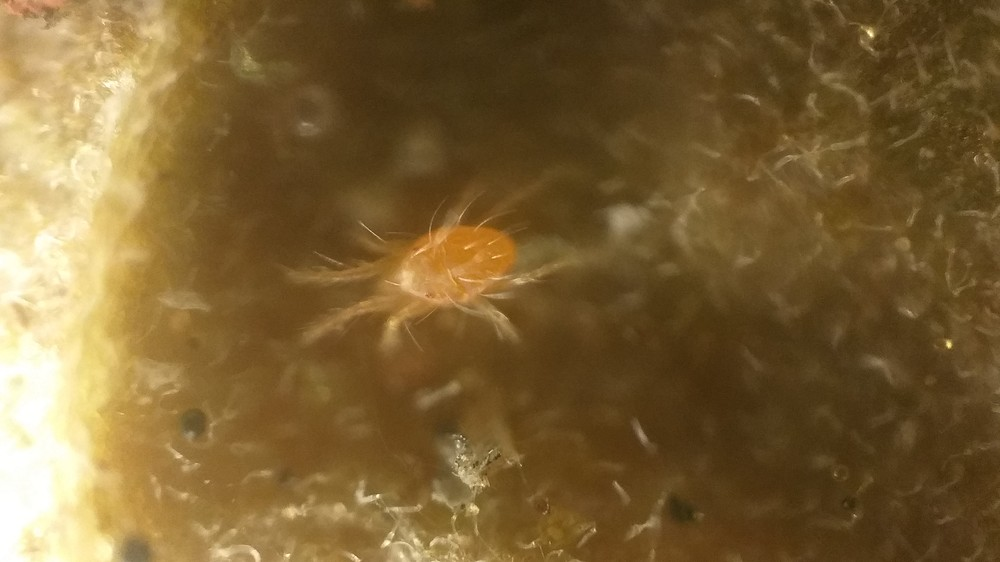Aracnido Rojo: (270, 156, 585, 370)
